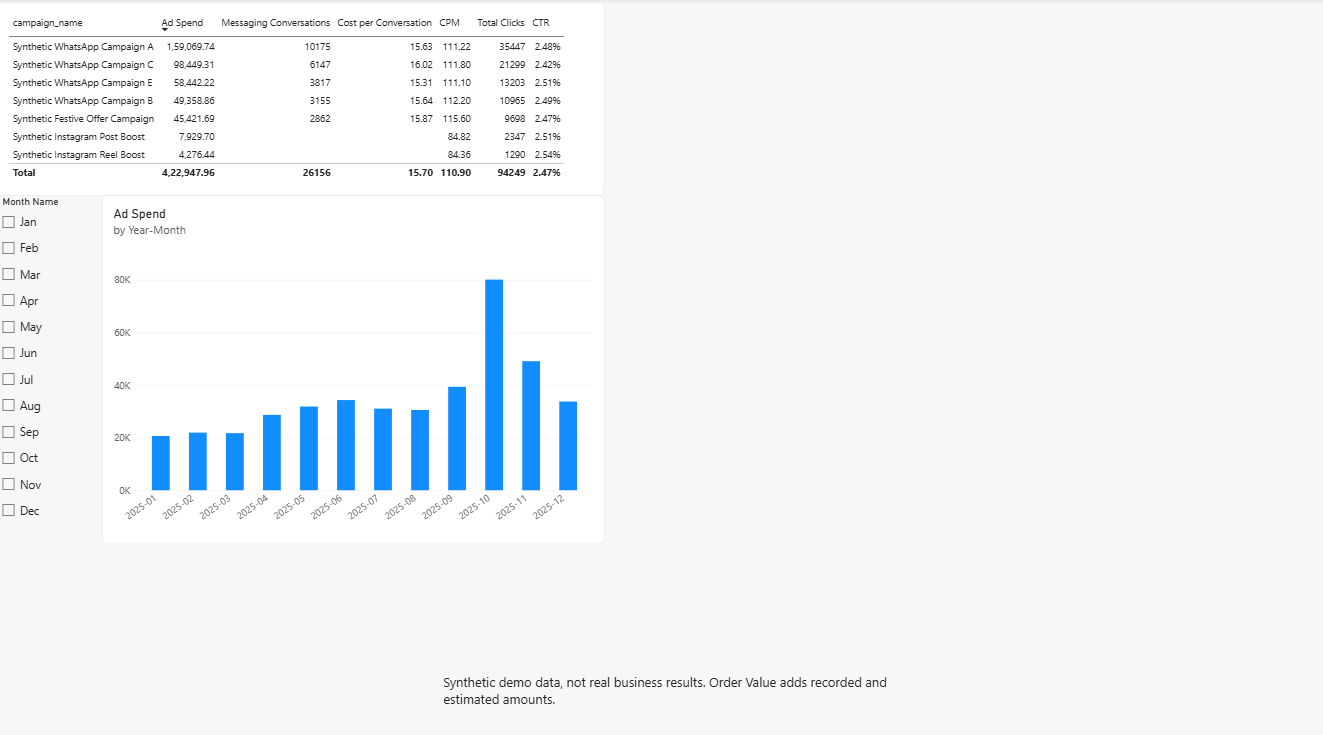

The dashboard page shown, as its layout file describes it:
{"tool":"powerbi","page":{"name":"Marketing","canvas":[1920,1080],"ordinal":4},"visuals":[{"type":"tableEx","fields":{"Values":["clean ad_campaigns.campaign_name","Date.Ad Spend","Date.Messaging Conversations","Date.Cost per Conversation","Date.CPM","Date.Total Clicks","Date.CTR"]},"box":[0,5.4,879.5,280.5],"z":0},{"type":"clusteredColumnChart","fields":{"Category":["Date.Year-Month"],"Y":["Date.Ad Spend"]},"box":[152,285.9,727.5,504.9],"z":1000},{"type":"slicer","fields":{"Values":["Date.Month Name"]},"box":[0,285.9,152,504.9],"z":2000},{"type":"textbox","box":[646.3,977.7,658.7,84.4],"z":2001}]}

Visuals, with their boxes in screenshot pixels (x1, y1, x2, y2), scaled from the page's 1920x1080 canvas onto the 1323x735 screenshot:
tableEx - clean ad_campaigns.campaign_name x Date.Ad Spend: box(0, 4, 606, 195)
clusteredColumnChart - Date.Year-Month x Date.Ad Spend: box(105, 195, 606, 538)
slicer - Date.Month Name: box(0, 195, 105, 538)
textbox: box(445, 665, 899, 723)
